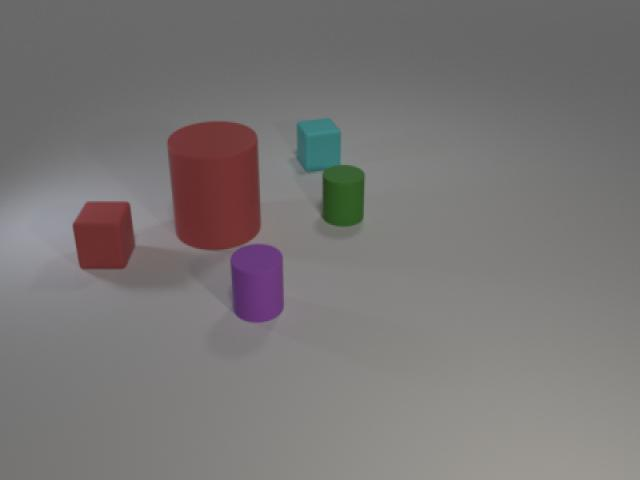cylinder: (157, 114, 270, 256), (228, 240, 290, 327), (319, 158, 371, 233)
